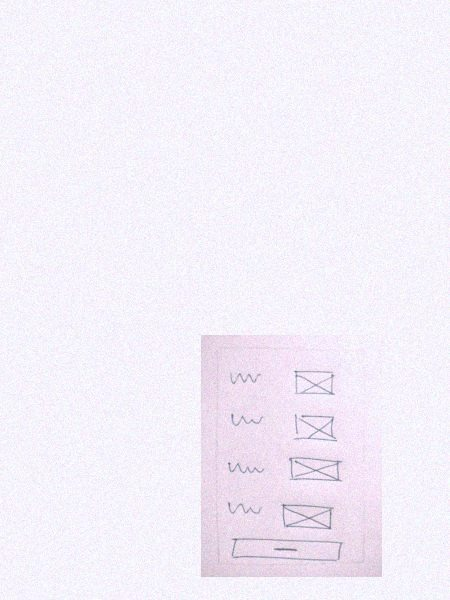button: (228, 535, 344, 566)
image: (279, 500, 338, 535), (285, 455, 345, 486), (290, 411, 340, 447), (291, 367, 339, 398)
text: (224, 459, 270, 478), (226, 498, 265, 520), (226, 410, 268, 430), (227, 369, 264, 387)
